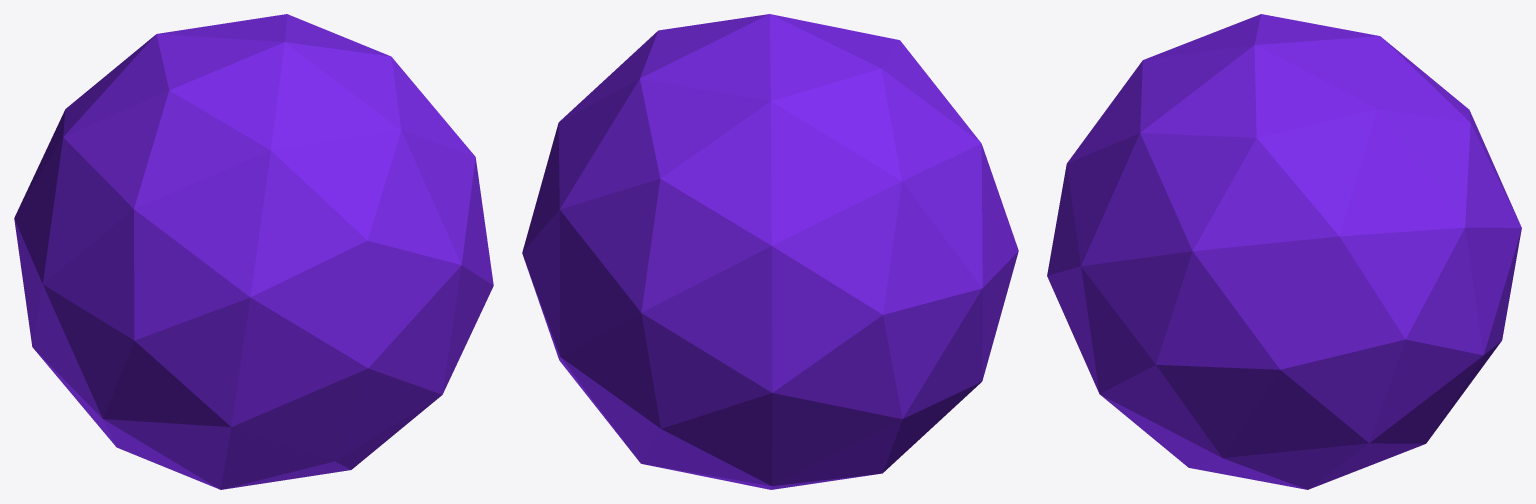
File: GithubBall.glb
The picture shows the model from 3 angles, left to right: view 1: azimuth 30°, elevation 25°; view 2: azimuth 150°, elevation 25°; view 3: azimuth 270°, elevation 25°; orthographic projection. The views are drawn at different scales.
Parts seen in each view (by area): view 1: Icosphere, Icosphere.001; view 2: Icosphere, Icosphere.001; view 3: Icosphere.001, Icosphere.
Boxes of the visible parts, x1,y1,x2,y2 form: Icosphere: (14, 90, 493, 489); Icosphere.001: (63, 14, 475, 156); Icosphere: (522, 40, 1018, 489); Icosphere.001: (522, 14, 901, 356); Icosphere.001: (1140, 14, 1521, 369); Icosphere: (1047, 60, 1521, 489).
Size of the model in its own units: 1.99 by 1.98 by 1.98.
